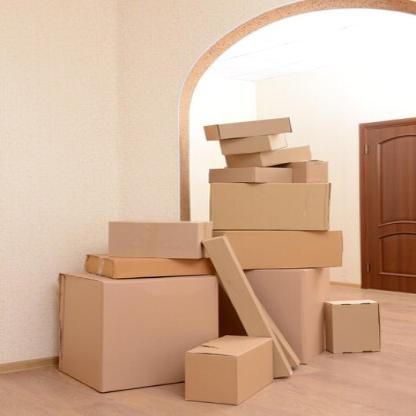box: (103, 277, 218, 392), (203, 237, 291, 380), (247, 269, 308, 365), (209, 183, 328, 230), (220, 230, 343, 271), (107, 220, 200, 260), (185, 352, 238, 406), (332, 302, 381, 353), (114, 259, 215, 278), (219, 116, 292, 139), (262, 144, 312, 166), (220, 135, 271, 156), (209, 168, 256, 182), (305, 161, 329, 184)
